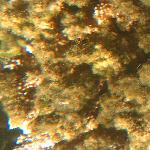dead: (9, 10, 126, 127)
